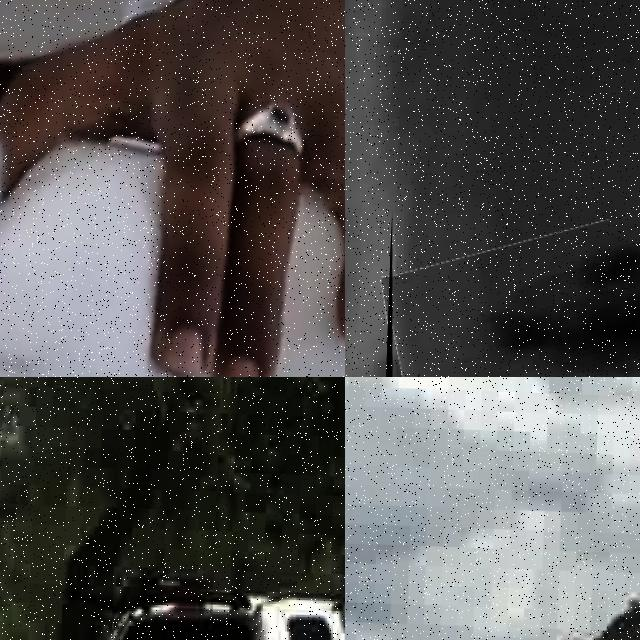0: (382, 211, 640, 377)
drone: (0, 0, 345, 377)
